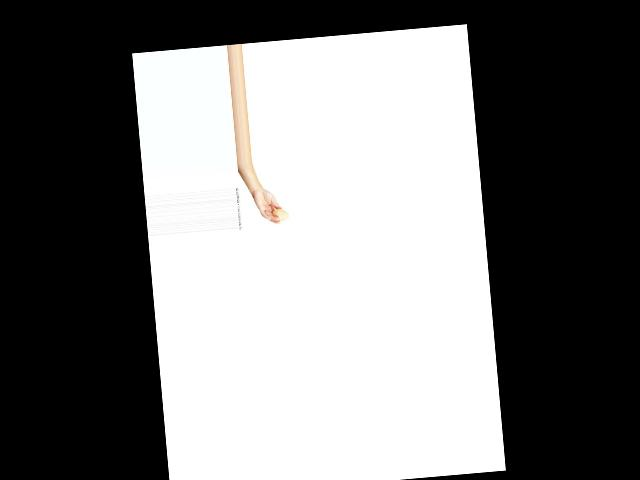egg: (271, 207, 289, 221)
